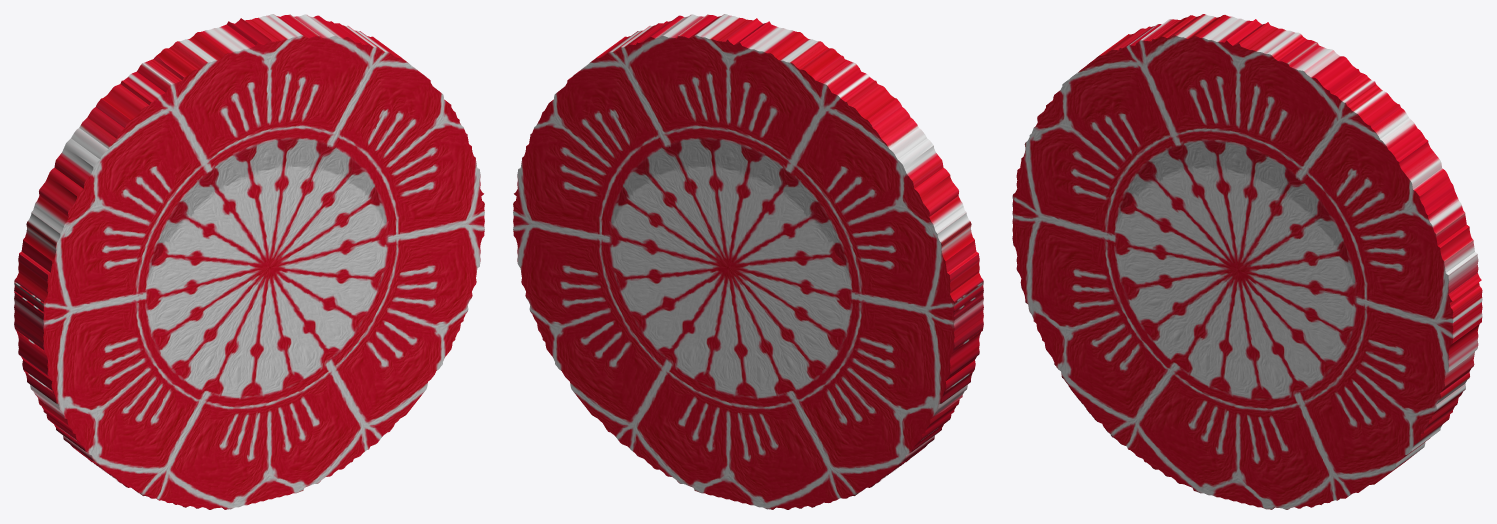
Rendered from diana_japonesa.fbx.
3 renders of one model, left to right at view 1: azimuth 30°, elevation 25°; view 2: azimuth 150°, elevation 25°; view 3: azimuth 330°, elevation 25°, orthographic.
Visible parts, largest first — view 1: diana_japonesa; view 2: diana_japonesa; view 3: diana_japonesa.
Boxes of the visible parts, left/top/right/bottom form: diana_japonesa: left=14, top=14, right=484, bottom=509; diana_japonesa: left=513, top=14, right=983, bottom=509; diana_japonesa: left=1012, top=14, right=1482, bottom=509.
Bounding box in the file's own units: 52.11 × 51.89 × 5.98.
1 material, 1 textured.
